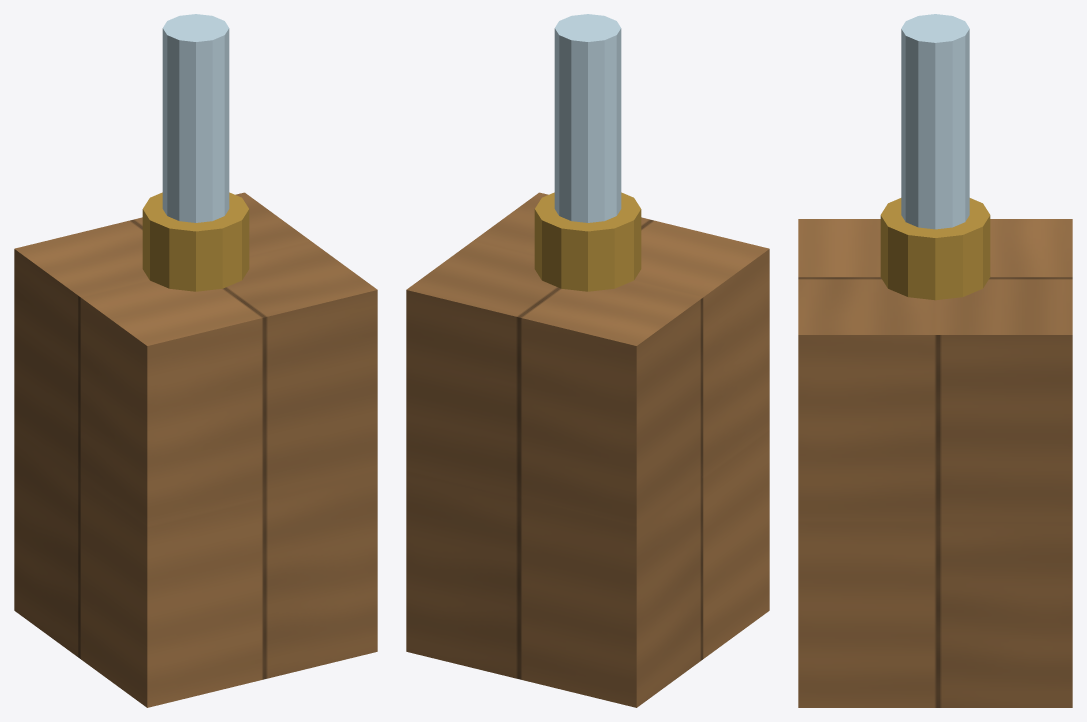
File: lampa.glb
3 views of the same model, side by side, from view 1: azimuth 30°, elevation 25°; view 2: azimuth 150°, elevation 25°; view 3: azimuth 270°, elevation 25° (orthographic). The views are drawn at different scales.
Parts seen in each view (by area): view 1: lampa; view 2: lampa; view 3: lampa.
Boxes of the visible parts, box(x1,y1,x2,y2) form: lampa: box(14, 14, 377, 707); lampa: box(406, 14, 769, 707); lampa: box(798, 14, 1072, 707).
Size of the model in its own units: 0.4 by 1 by 0.4.
3 materials, 1 textured.
